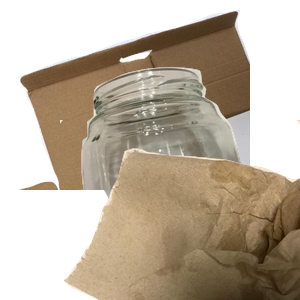cardboard: (16, 10, 256, 190)
glass: (74, 65, 300, 245)
plastic: (80, 120, 289, 300)
trash: (60, 120, 300, 300)
